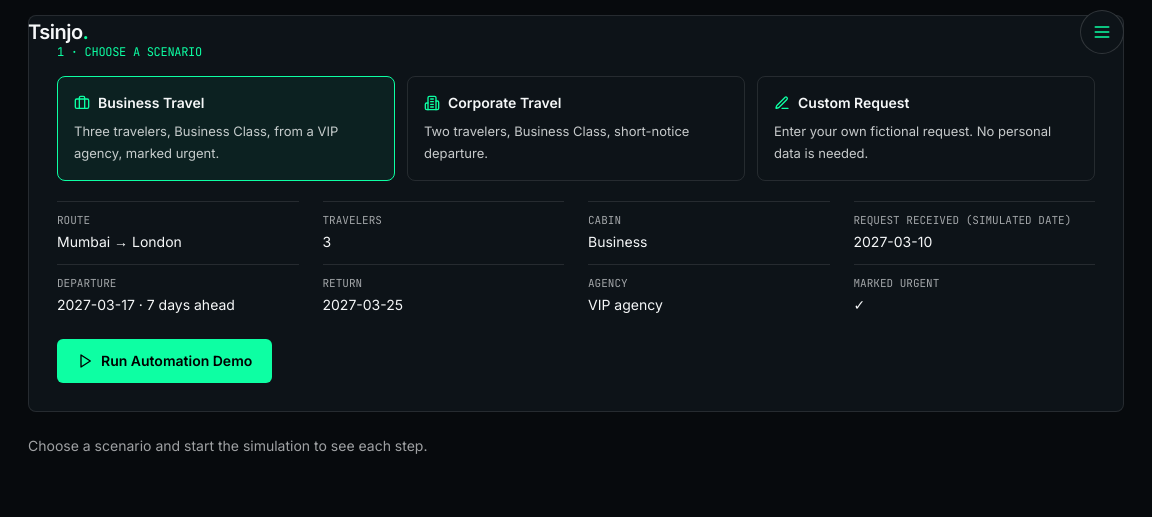
Test: Business Automation Showcase › is operable by keyboard at the approval gate
The width and height of the screenshot is (1152, 517).
(page scrolled)
Step 1. Click the button "Run Automation Demo" → (165, 361), box [57, 339, 272, 383]
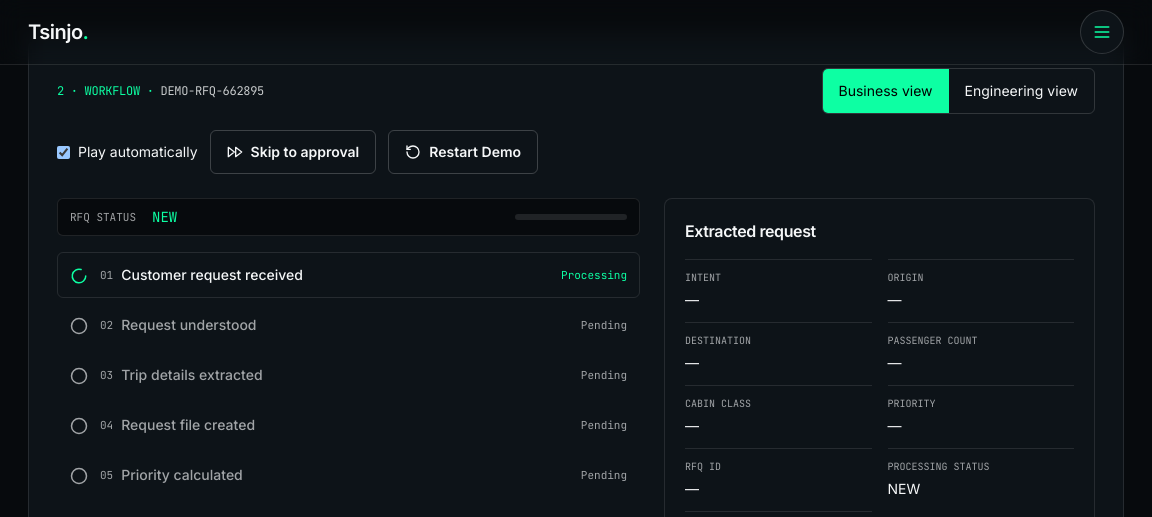
Step 2. Click the checkbox labelled "Play automatically" → (64, 152), box [57, 146, 70, 159]
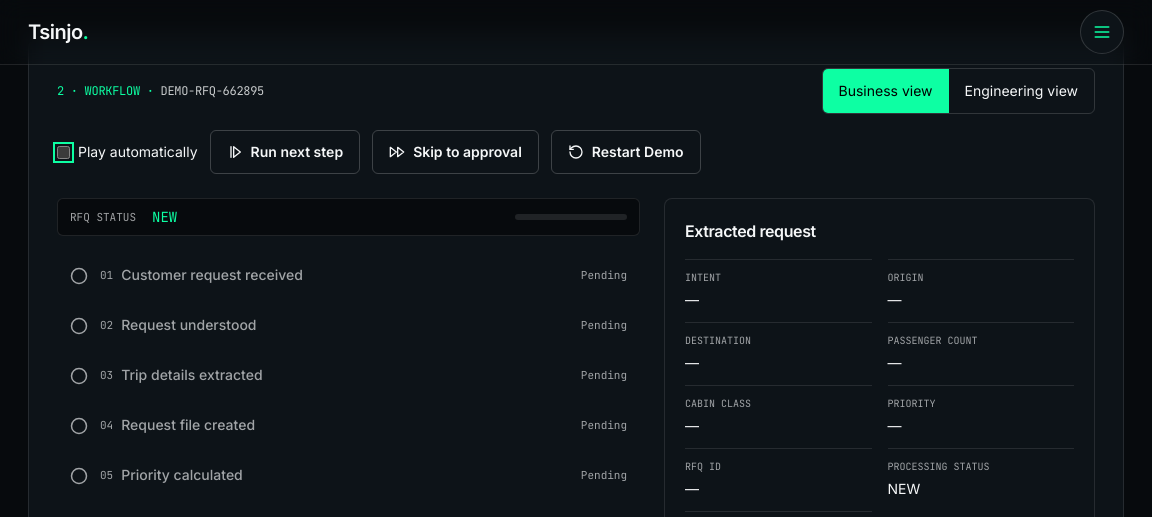
Step 3. Click the button "Skip to approval" → (455, 152), box [372, 130, 539, 174]
(page scrolled)
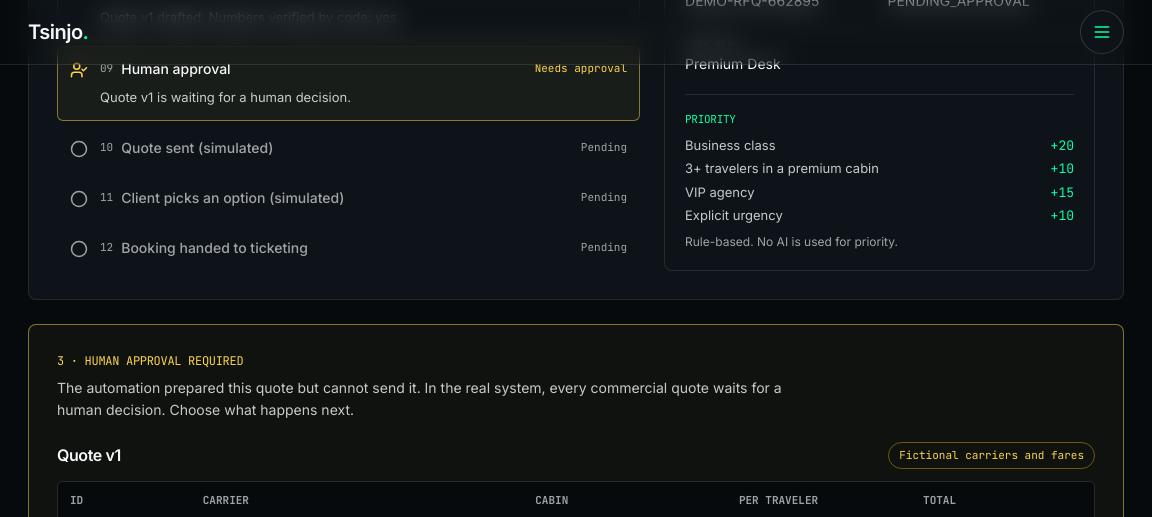
Step 4. Press Tab
(page scrolled)
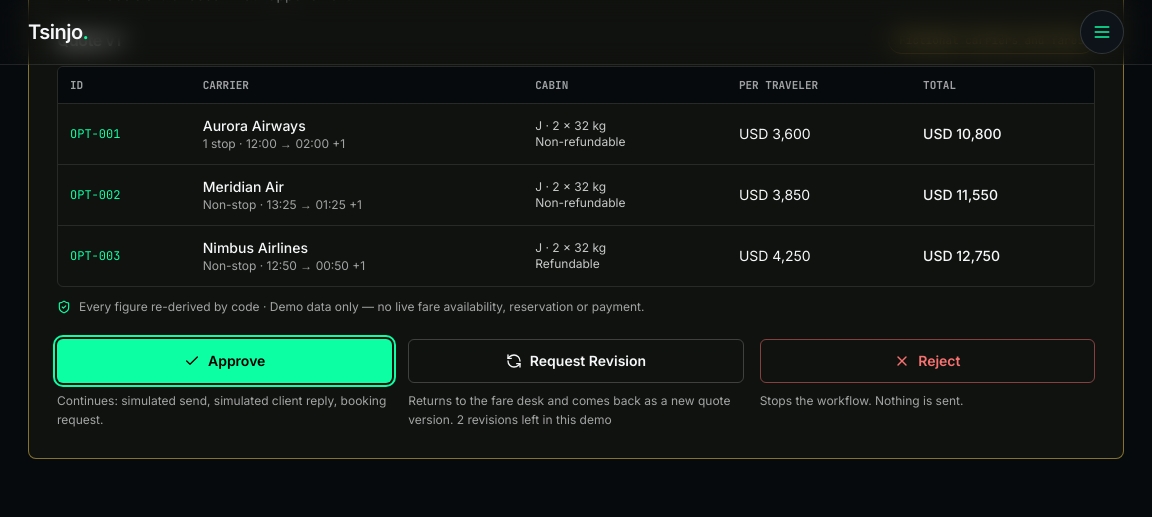
Step 5. Press Enter
(page scrolled)
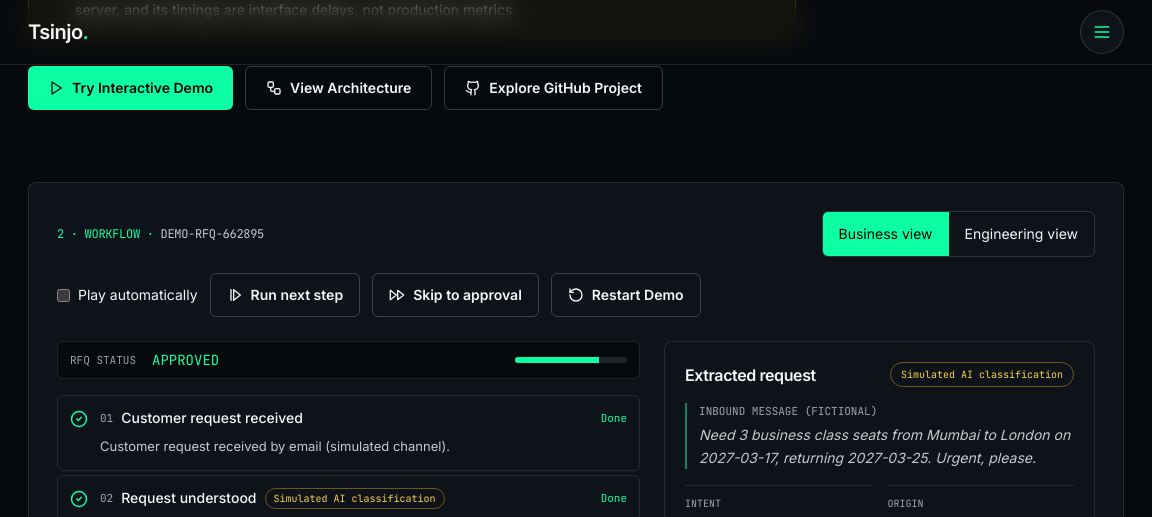
Result: the text with test id "rfq-status" reads "APPROVED" at [152, 351, 219, 369]
